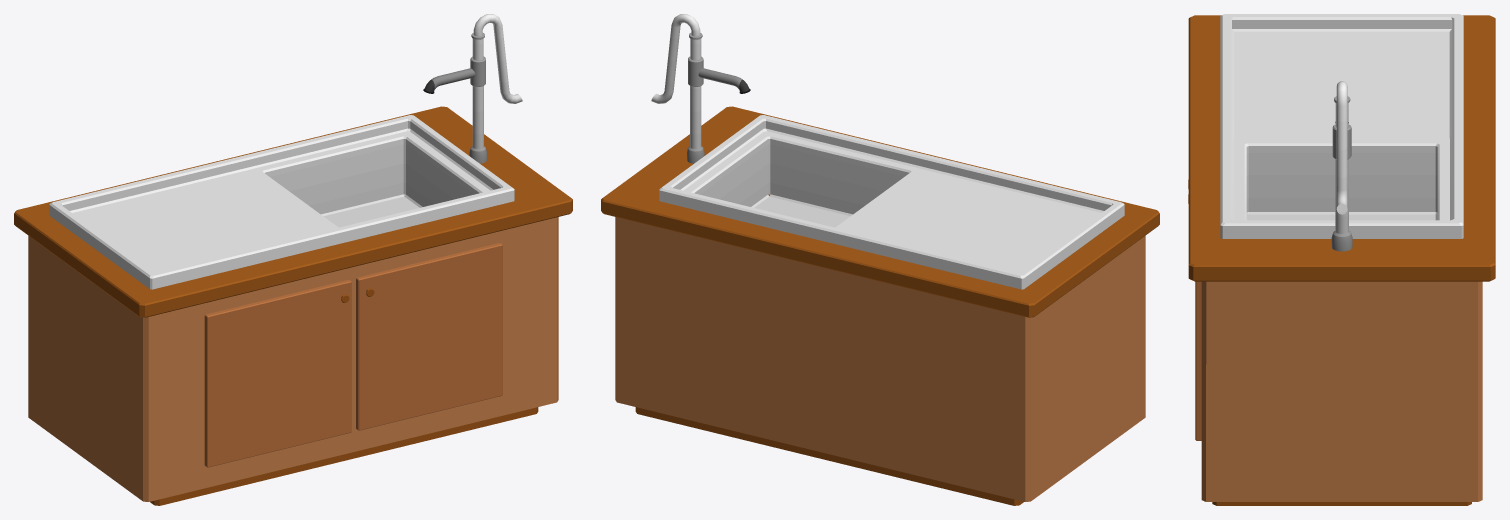
Rendered from Sink.glb.
3 views of the same model, side by side, from view 1: azimuth 30°, elevation 25°; view 2: azimuth 150°, elevation 25°; view 3: azimuth 270°, elevation 25° (orthographic). The views are drawn at different scales.
Visible parts, largest first — view 1: Sink; view 2: Sink; view 3: Sink.
Part boxes in pixels (x1,y1,x2,y2): Sink: (14,14,572,505); Sink: (601,14,1159,505); Sink: (1188,14,1495,505).
Size of the model in its own units: 1.73 by 1.33 by 0.8738.
1 material, 1 textured.
